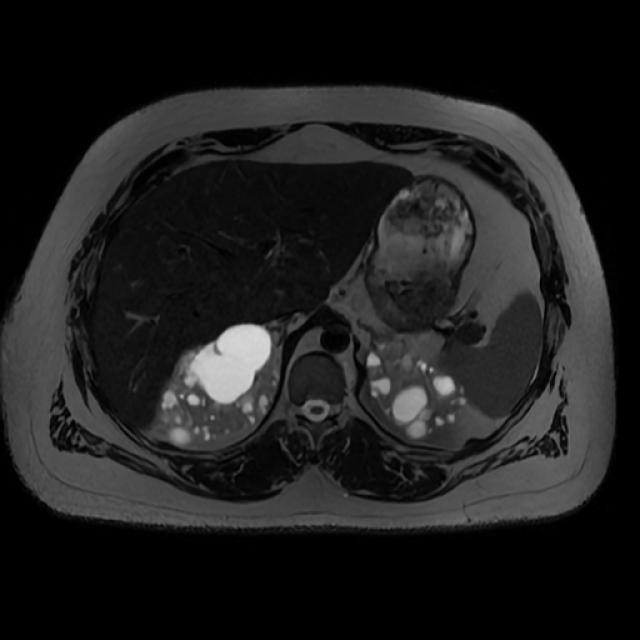sag: (159, 323, 276, 445)
sol: (368, 344, 470, 438)
